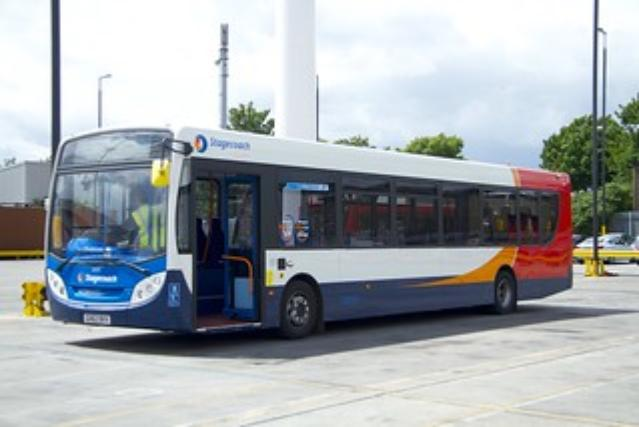bus: (40, 122, 574, 339)
